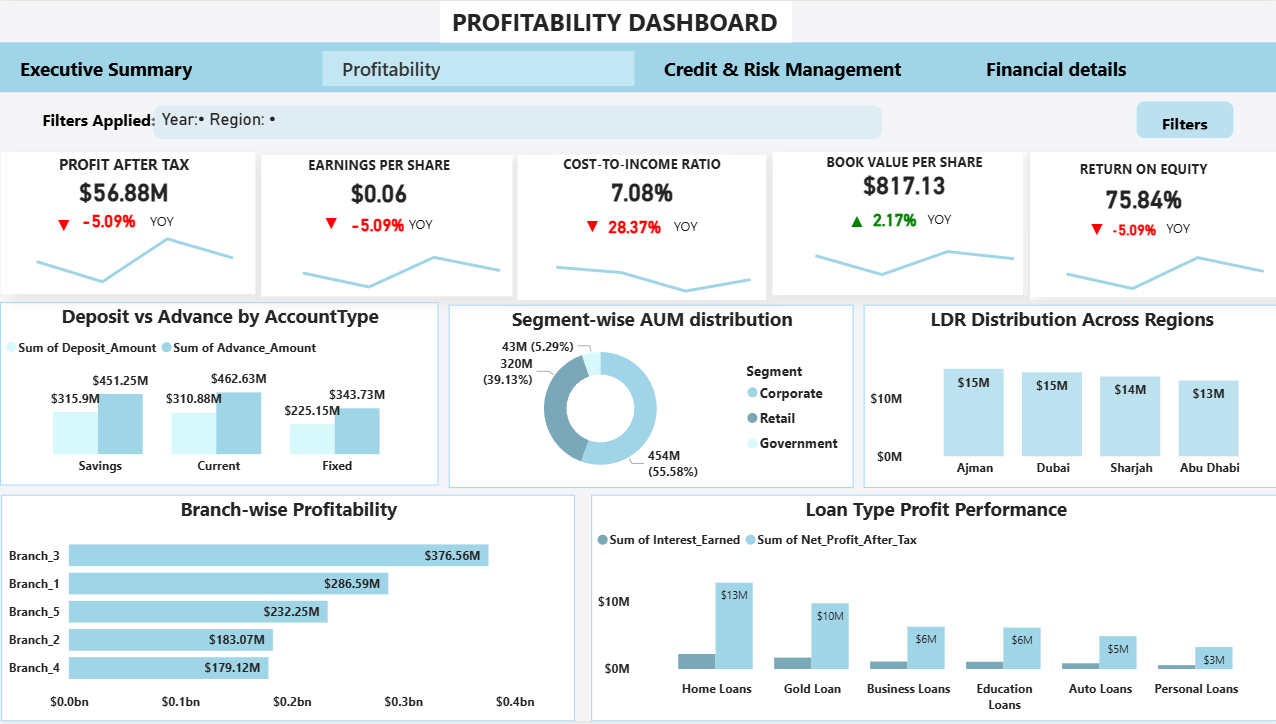

The dashboard page shown, as its layout file describes it:
{"tool":"powerbi","page":{"name":"Profitability ","canvas":[1280,720],"ordinal":1},"visuals":[{"type":"card","title":"BOOK VALUE PER SHARE","fields":{"Values":["dax.BVPS"]},"box":[820.9,152.3,166.7,52.7],"z":0,"group":"g12"},{"type":"card","title":"COST-TO-INCOME RATIO ","fields":{"Values":["dax.Cost to Income Ratio"]},"box":[551.5,153.5,181.7,61.7],"z":0,"group":"g11"},{"type":"card","title":"PROFIT AFTER TAX","fields":{"Values":["dax.Profit After Tax (PAT)"]},"box":[48.2,153.6,152.9,61.9],"z":0,"group":"g9"},{"type":"card","title":"EARNINGS PER SHARE","fields":{"Values":["dax.EPS"]},"box":[300.2,154.3,158.3,60.2],"z":0,"group":"g10"},{"type":"card","title":"RETURN ON EQUITY ","fields":{"Values":["dax.Return on Equity (ROE)"]},"box":[1061.1,159.8,165,65],"z":0,"group":"g13"},{"type":"card","fields":{"Values":["dax.YOY Profit After Tax"]},"box":[74.6,203,70.4,36],"z":0,"group":"g3"},{"type":"card","fields":{"Values":["dax.Symbol YOY EPS"]},"box":[313.5,207.5,35,34.2],"z":0,"group":"g5"},{"type":"donutChart","title":" Segment-wise AUM distribution","fields":{"Category":["Customer_Dim.Segment"],"Y":["Sum(Financial_Transactions_Fact.AUM_Amount)"]},"box":[448.3,303.3,405,183.3],"z":0},{"type":"shape","box":[1030,151.7,250,145],"z":1000,"group":"g6"},{"type":"shape","box":[261.1,153.3,250,141.7],"z":1000,"group":"g1"},{"type":"shape","box":[517.9,153.3,249.1,144.7],"z":1000,"group":"g2"},{"type":"card","fields":{"Values":["dax.YOY EPS by Month"]},"box":[342.9,204.8,68.3,39.1],"z":1000,"group":"g5"},{"type":"card","fields":{"Values":["dax.Symbol YOY PAT"]},"box":[49.7,209.9,30.2,23.5],"z":1000,"group":"g3"},{"type":"card","fields":{"Values":["dax.YOY ROE by Month"]},"box":[1104.4,213.1,56.7,35],"z":1000,"group":"g8"},{"type":"lineChart","fields":{"Category":["Time_Dim.Month"],"Y":["dax profit.Profit After Tax (PAT)"]},"box":[1.7,215.4,245.9,78.2],"z":1000,"group":"g9"},{"type":"lineChart","fields":{"Category":["Time_Dim.Month"],"Y":["dax profit.BVPS"]},"box":[779.5,230.8,248.1,60.4],"z":1000,"group":"g12"},{"type":"lineChart","fields":{"Category":["Time_Dim.Month"],"Y":["dax profit.EPS"]},"box":[266.8,235.8,246.7,60.2],"z":1000,"group":"g10"},{"type":"lineChart","fields":{"Category":["Time_Dim.Month"],"Y":["dax profit.Cost_to_Income_Ratio"]},"box":[521.5,236.8,243.3,61.7],"z":1000,"group":"g11"},{"type":"clusteredColumnChart","title":"Deposit vs Advance by AccountType","fields":{"Category":["Account_Dim.AccountType"],"Y":["Sum(Financial_Transactions_Fact.Deposit_Amount)","Sum(Financial_Transactions_Fact.Advance_Amount)"]},"box":[0,301.7,438.3,183.3],"z":1000},{"type":"shape","box":[7.6,151.7,248.3,141.7],"z":2000,"group":"g9"},{"type":"shape","box":[772.4,151.7,250,143.3],"z":2000,"group":"g12"},{"type":"group","id":"g1","title":"Group 3","box":[261.1,153.3,250,141.7],"z":2000,"group":"g10"},{"type":"card","fields":{"Values":["dax.Symbol YOY BVPS"]},"box":[839.3,206.6,36.7,24.7],"z":2000,"group":"g4"},{"type":"textbox","box":[145.7,207.2,48,27.7],"z":2000,"group":"g3"},{"type":"textbox","box":[403.5,209.1,43.3,30.9],"z":2000,"group":"g5"},{"type":"card","fields":{"Values":["dax.Symbol YOY Cost to Income"]},"box":[574.8,211.8,35,30],"z":2000,"group":"g7"},{"type":"lineChart","fields":{"Category":["Time_Dim.Month"],"Y":["dax profit.Return on Equity (ROE)"]},"box":[1031.7,237,246.5,62],"z":2000,"group":"g13"},{"type":"clusteredColumnChart","title":"Loan Type Profit Performance ","fields":{"Category":["Loan_Dim.LoanType"],"Y":["Sum(Financial_Transactions_Fact.Interest_Earned)","Sum(Financial_Transactions_Fact.Net_Profit_After_Tax)"]},"box":[591.7,493.3,688.3,226.7],"z":2000},{"type":"group","id":"g2","title":"Group 3","box":[517.9,153.3,248.3,145],"z":3000,"group":"g11"},{"type":"group","id":"g3","title":"Group 1","box":[49.7,203,144,36],"z":3000,"group":"g9"},{"type":"group","id":"g4","title":"Group 1","box":[839.3,203.3,128.3,34.6],"z":3000,"group":"g12"},{"type":"card","fields":{"Values":["dax.YOY BVPS by Month"]},"box":[867.6,203.3,55,34.6],"z":3000,"group":"g4"},{"type":"group","id":"g5","title":"Group 1","box":[313.5,204.8,133.3,39.1],"z":3000,"group":"g10"},{"type":"card","fields":{"Values":["dax.YOY Cost to Income Ratio by Month"]},"box":[601.5,206.8,67,38.3],"z":3000,"group":"g7"},{"type":"card","fields":{"Values":["dax.Symbol YOY ROE"]},"box":[1081.1,216.4,31.7,28.3],"z":3000,"group":"g8"},{"type":"barChart","title":"Branch-wise Profitability","fields":{"Category":["Branch_Dim.BranchName"],"Y":["Sum(Financial_Transactions_Fact.Advance_Amount)"]},"box":[1.7,493.3,573.3,226.7],"z":3000},{"type":"group","id":"g6","title":"Group 3","box":[1030,151.7,250,145],"z":4000,"group":"g13"},{"type":"group","id":"g7","title":"Group 1","box":[574.8,206.8,136.7,38.3],"z":4000,"group":"g11"},{"type":"columnChart","title":"LDR Distribution Across Regions","fields":{"Category":["Financial_Transactions_Fact.RegionName"],"Y":["Sum(Financial_Transactions_Fact.Net_Profit_After_Tax)"]},"box":[863.7,303.8,415.1,182.9],"z":4000},{"type":"textbox","box":[668.1,210.9,43.3,30],"z":4002,"group":"g7"},{"type":"shape","box":[0,41.7,1280,50],"z":5000},{"type":"textbox","box":[922.6,204.9,45,33],"z":5000,"group":"g4"},{"type":"textbox","box":[1161.1,213.1,45,33.3],"z":5000,"group":"g8"},{"type":"group","id":"g8","title":"Group 1","box":[1081.1,213.1,125,35],"z":5001,"group":"g13"},{"type":"pageNavigator","box":[0,50,1280,35],"z":6000},{"type":"textbox","box":[440,0,351.7,41.7],"z":7000},{"type":"group","id":"g9","title":"Group 2","box":[1.7,151.7,254.2,141.9],"z":8000},{"type":"group","id":"g10","title":"Group 2","box":[261.1,153.3,252.4,142.7],"z":9000},{"type":"group","id":"g11","title":"Group 2","box":[517.9,153.3,248.3,145],"z":10000},{"type":"group","id":"g12","title":"Group 2","box":[772.4,151.7,255,143.3],"z":11000},{"type":"group","id":"g13","title":"Group 2","box":[1030,151.7,250,147.3],"z":12000},{"type":"textbox","box":[23.3,103.3,150,35],"z":13000},{"type":"textbox","box":[152.7,103.4,730.1,35],"z":14000},{"type":"actionButton","title":"Filters","box":[1135,98.3,100,40],"z":16000}]}

Visuals, with their boxes in screenshot pixels (x1, y1, x2, y2), scaled from the page's 1280x720 canvas onto the 1276x724 screenshot:
"BOOK VALUE PER SHARE" card: bbox=(818, 153, 985, 206)
"COST-TO-INCOME RATIO " card: bbox=(550, 154, 731, 216)
"PROFIT AFTER TAX" card: bbox=(48, 154, 200, 217)
"EARNINGS PER SHARE" card: bbox=(299, 155, 457, 216)
"RETURN ON EQUITY " card: bbox=(1058, 161, 1222, 226)
card - dax.YOY Profit After Tax: bbox=(74, 204, 145, 240)
card - dax.Symbol YOY EPS: bbox=(313, 209, 347, 243)
" Segment-wise AUM distribution" donutChart: bbox=(447, 305, 851, 489)
shape: bbox=(1027, 153, 1275, 298)
shape: bbox=(260, 154, 510, 297)
shape: bbox=(516, 154, 765, 300)
card - dax.YOY EPS by Month: bbox=(342, 206, 410, 245)
card - dax.Symbol YOY PAT: bbox=(50, 211, 80, 235)
card - dax.YOY ROE by Month: bbox=(1101, 214, 1157, 249)
lineChart - Time_Dim.Month x dax profit.Profit After Tax (PAT): bbox=(2, 217, 247, 295)
lineChart - Time_Dim.Month x dax profit.BVPS: bbox=(777, 232, 1024, 293)
lineChart - Time_Dim.Month x dax profit.EPS: bbox=(266, 237, 512, 298)
lineChart - Time_Dim.Month x dax profit.Cost_to_Income_Ratio: bbox=(520, 238, 762, 300)
"Deposit vs Advance by AccountType" clusteredColumnChart: bbox=(0, 303, 437, 488)
shape: bbox=(8, 153, 255, 295)
shape: bbox=(770, 153, 1019, 297)
"Group 3" group: bbox=(260, 154, 510, 297)
card - dax.Symbol YOY BVPS: bbox=(837, 208, 873, 233)
textbox: bbox=(145, 208, 193, 236)
textbox: bbox=(402, 210, 445, 241)
card - dax.Symbol YOY Cost to Income: bbox=(573, 213, 608, 243)
lineChart - Time_Dim.Month x dax profit.Return on Equity (ROE): bbox=(1028, 238, 1274, 301)
"Loan Type Profit Performance " clusteredColumnChart: bbox=(590, 496, 1275, 723)
"Group 3" group: bbox=(516, 154, 764, 300)
"Group 1" group: bbox=(50, 204, 193, 240)
"Group 1" group: bbox=(837, 204, 965, 239)
card - dax.YOY BVPS by Month: bbox=(865, 204, 920, 239)
"Group 1" group: bbox=(313, 206, 445, 245)
card - dax.YOY Cost to Income Ratio by Month: bbox=(600, 208, 666, 246)
card - dax.Symbol YOY ROE: bbox=(1078, 218, 1109, 246)
"Branch-wise Profitability" barChart: bbox=(2, 496, 573, 723)
"Group 3" group: bbox=(1027, 153, 1275, 298)
"Group 1" group: bbox=(573, 208, 709, 246)
"LDR Distribution Across Regions" columnChart: bbox=(861, 305, 1275, 489)
textbox: bbox=(666, 212, 709, 242)
shape: bbox=(0, 42, 1275, 92)
textbox: bbox=(920, 206, 965, 239)
textbox: bbox=(1157, 214, 1202, 248)
"Group 1" group: bbox=(1078, 214, 1202, 249)
pageNavigator: bbox=(0, 50, 1275, 85)
textbox: bbox=(439, 0, 789, 42)
"Group 2" group: bbox=(2, 153, 255, 295)
"Group 2" group: bbox=(260, 154, 512, 298)
"Group 2" group: bbox=(516, 154, 764, 300)
"Group 2" group: bbox=(770, 153, 1024, 297)
"Group 2" group: bbox=(1027, 153, 1275, 301)
textbox: bbox=(23, 104, 173, 139)
textbox: bbox=(152, 104, 880, 139)
"Filters" actionButton: bbox=(1131, 99, 1231, 139)
